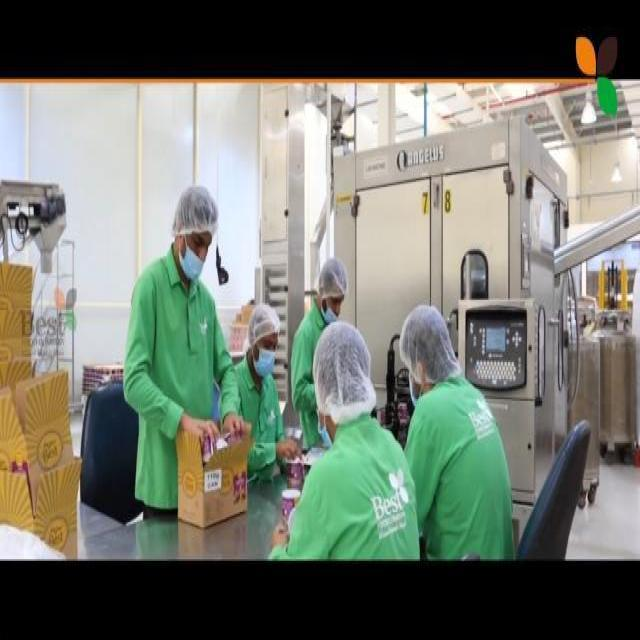bare_hand: (172, 411, 220, 453), (220, 403, 252, 446), (267, 510, 292, 556), (274, 435, 307, 467)
